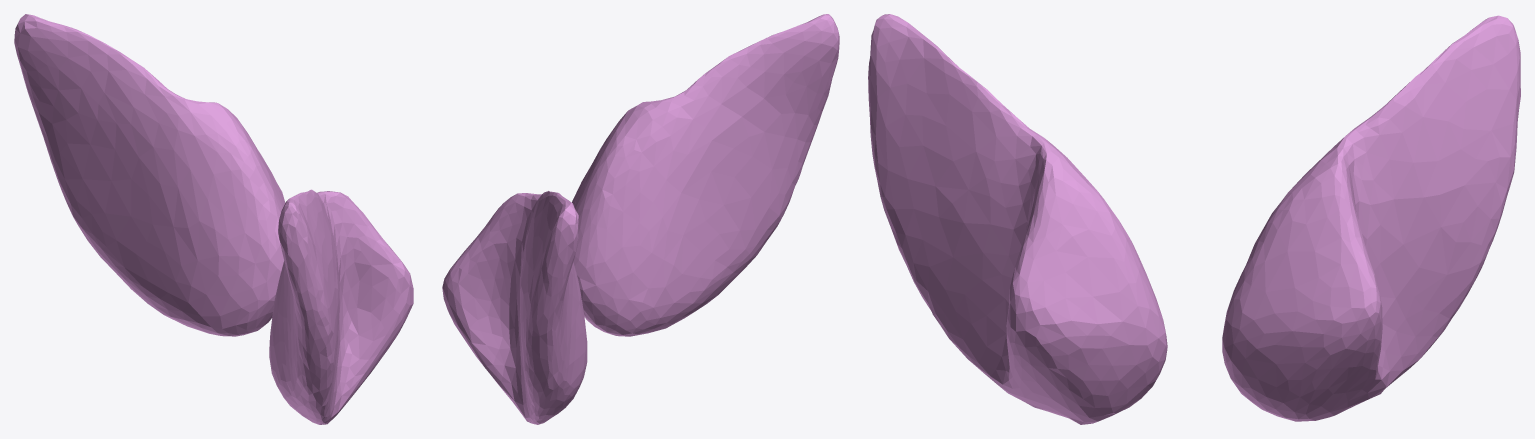
3 renders of one model, left to right at view 1: azimuth 30°, elevation 25°; view 2: azimuth 150°, elevation 25°; view 3: azimuth 270°, elevation 25°, orthographic. The views are drawn at different scales.
Parts seen in each view (by area): view 1: 820.obj; view 2: 820.obj; view 3: 820.obj.
Part boxes in pixels (box(x1,y1,x2,y2)): 820.obj: box(14, 14, 413, 424); 820.obj: box(442, 14, 839, 424); 820.obj: box(868, 14, 1520, 424).
Size of the model in its own units: 1291 by 1819 by 3184.
